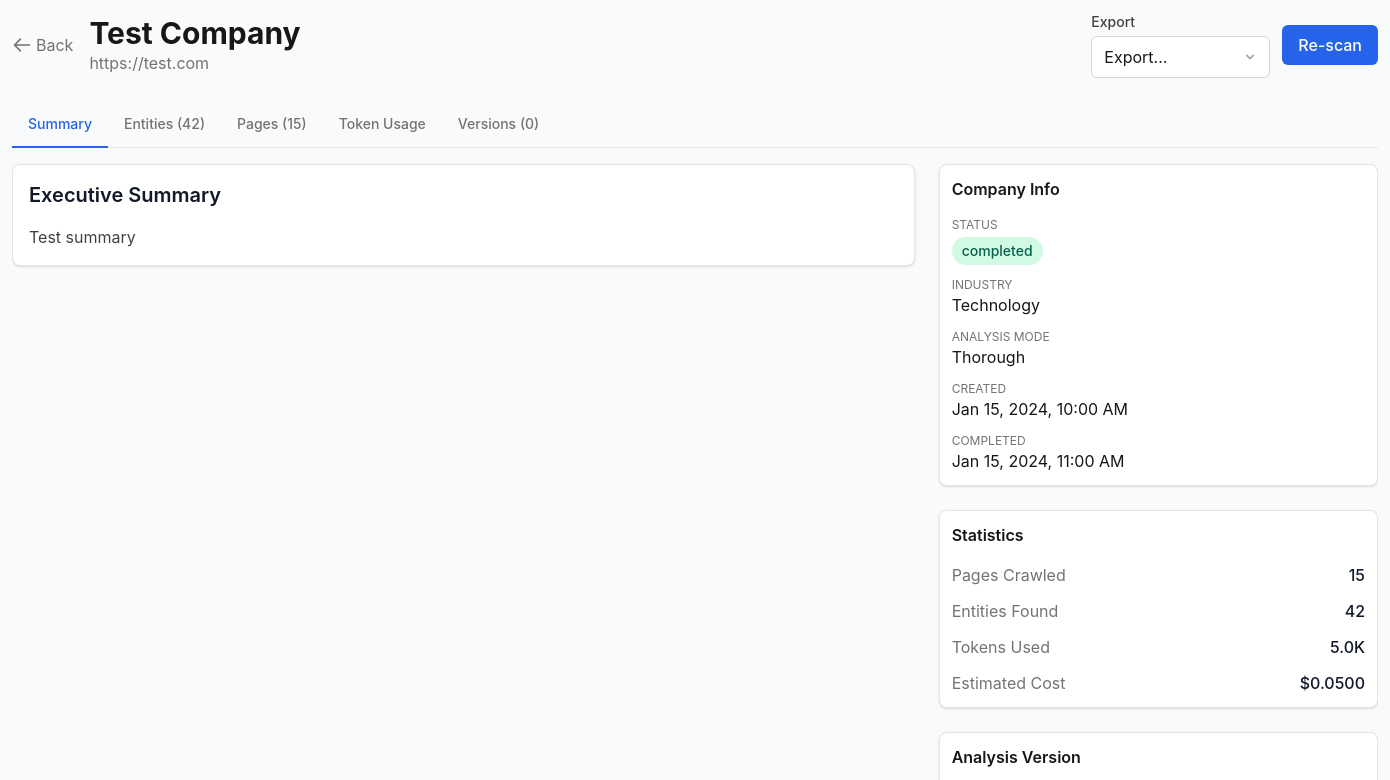
it: Entity Table Display › renders entity table with columns
Click the tab "Entities (42)": (165,125) [108,102,221,148]
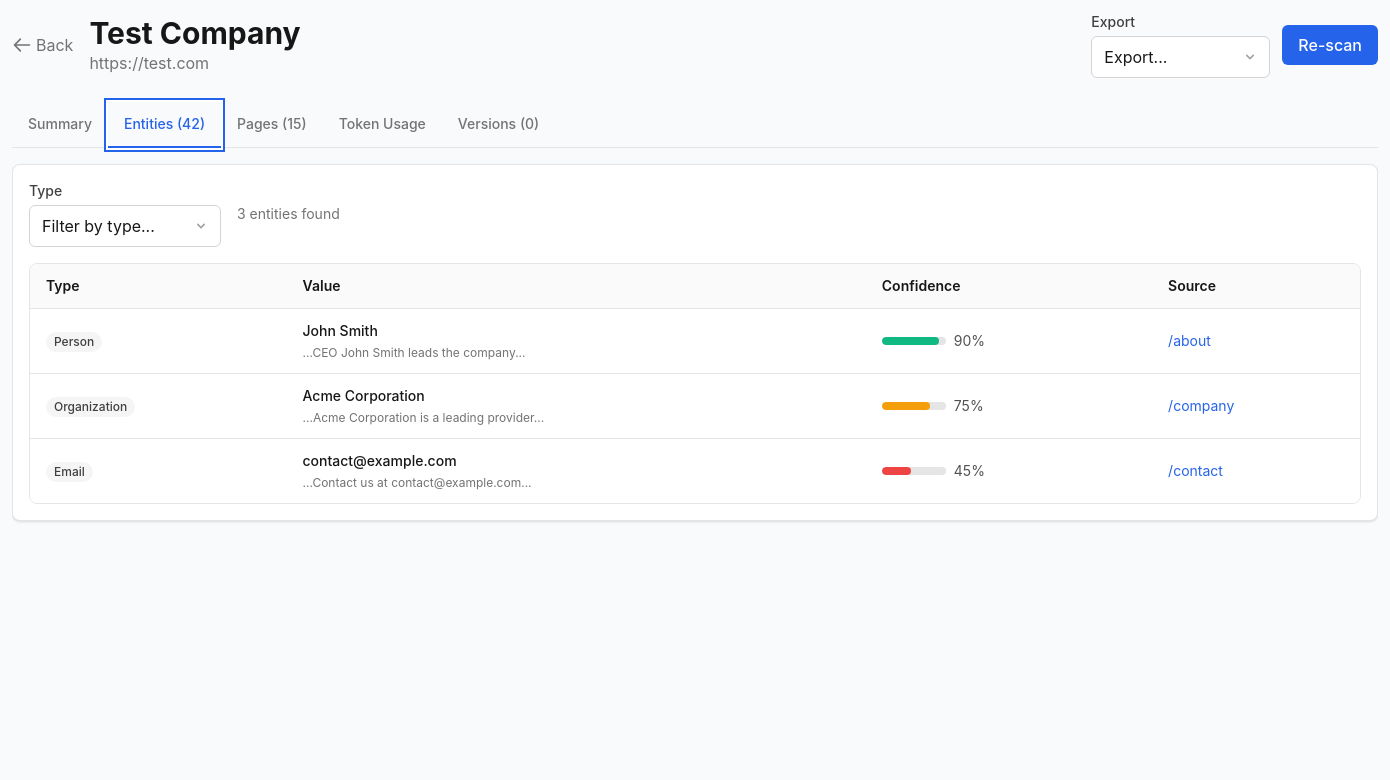
Check: the text "John Smith" is shown, box [302,322,378,339]
Check: the text "Value" is shown, box [302,277,340,294]
Check: the text "Confidence" is shown, box [882,277,960,294]
